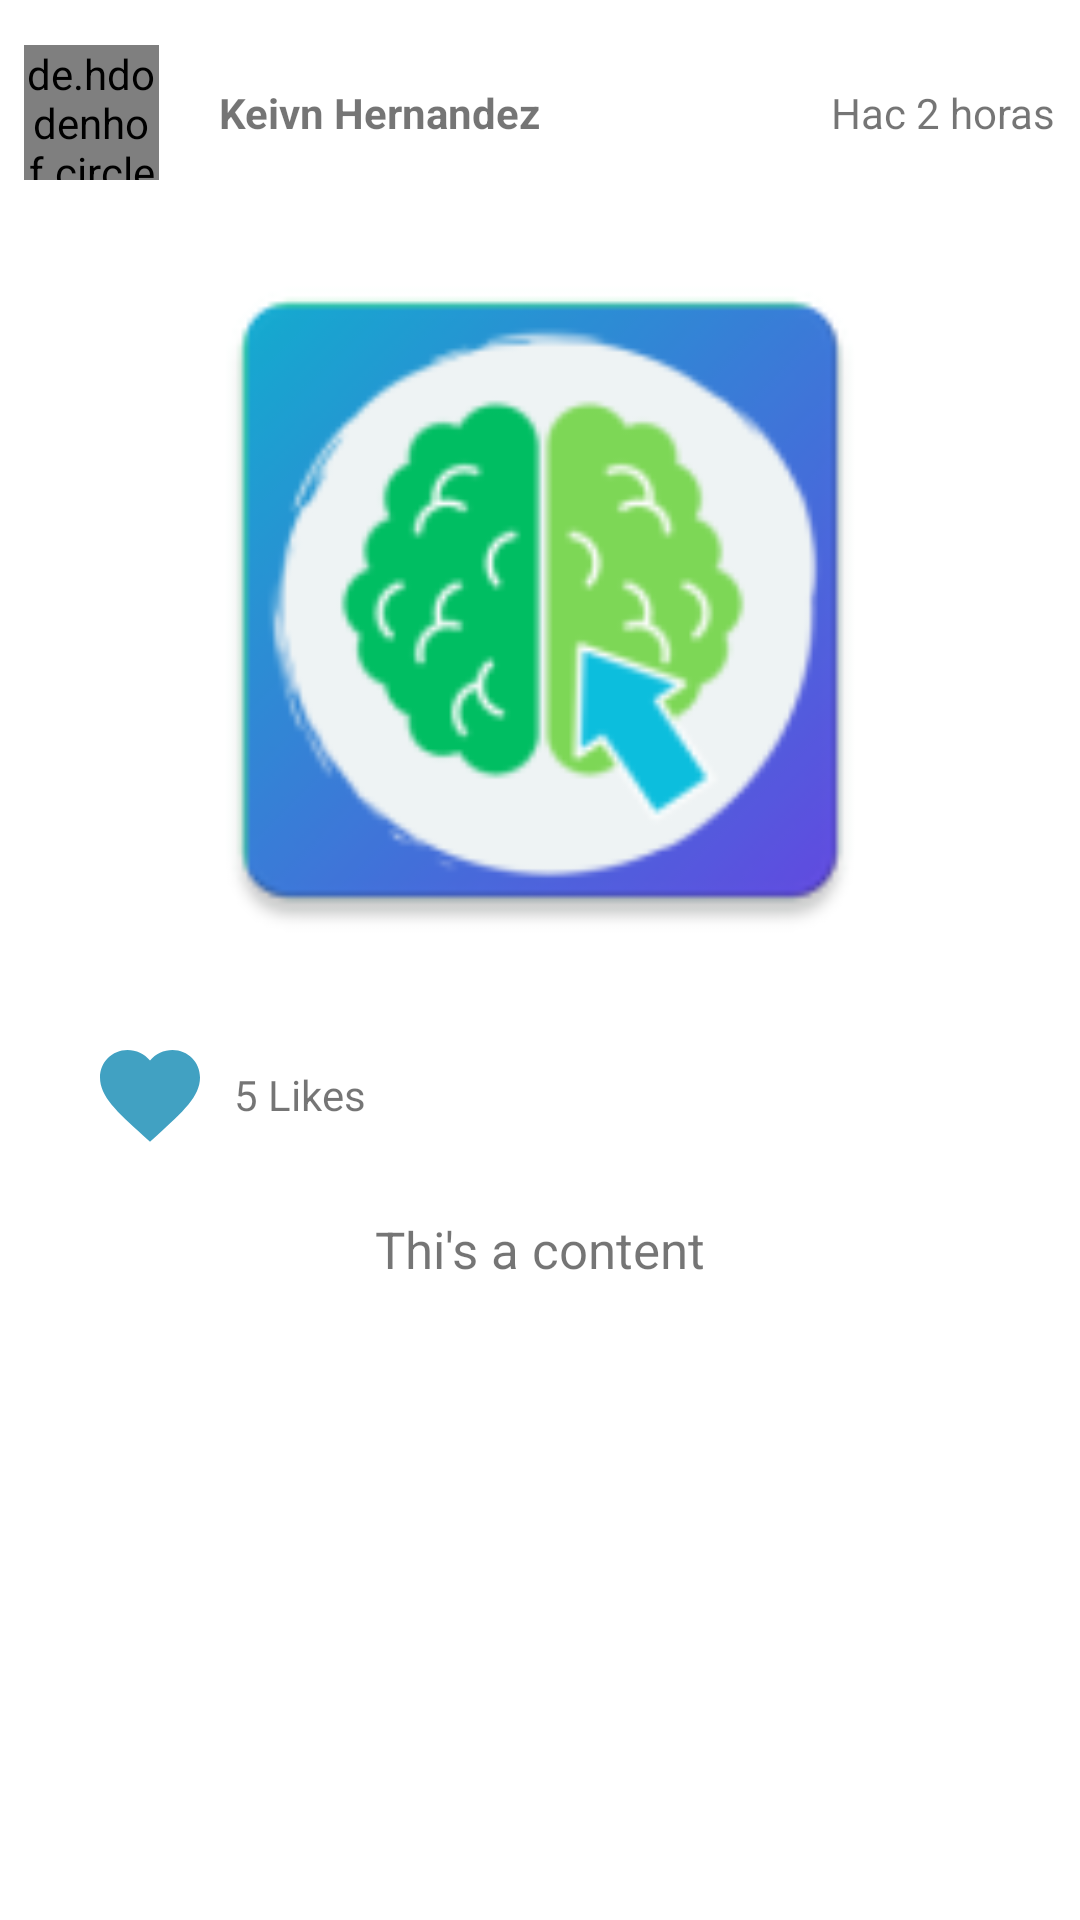

Icon click points for this 1080px×1920px phone screenshot, format (x=x, y=y):
favorite: (x=150, y=1096)
